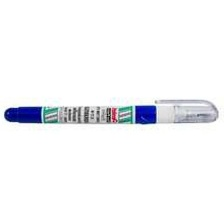correction_fluid: (3, 97, 222, 127)
